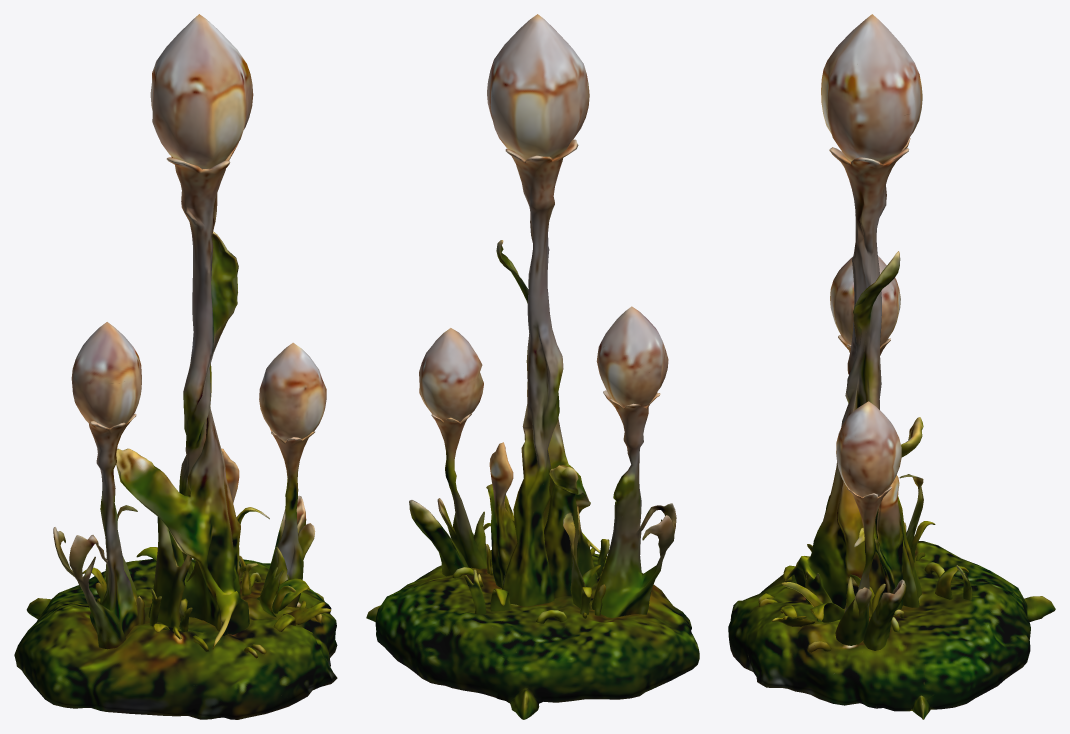
File: lantern_flower_lowpol.glb
3 views of the same model, side by side, from view 1: azimuth 30°, elevation 25°; view 2: azimuth 150°, elevation 25°; view 3: azimuth 270°, elevation 25° (orthographic). The views are drawn at different scales.
Parts seen in each view (by area): view 1: geometry_0; view 2: geometry_0; view 3: geometry_0.
Boxes of the visible parts, box(x1,y1,x2,y2) form: geometry_0: box(14, 14, 337, 719); geometry_0: box(366, 14, 699, 719); geometry_0: box(728, 14, 1055, 719).
Bounding box in the file's own units: 0.4785 × 0.9521 × 0.4463.
1 material, 1 textured.
